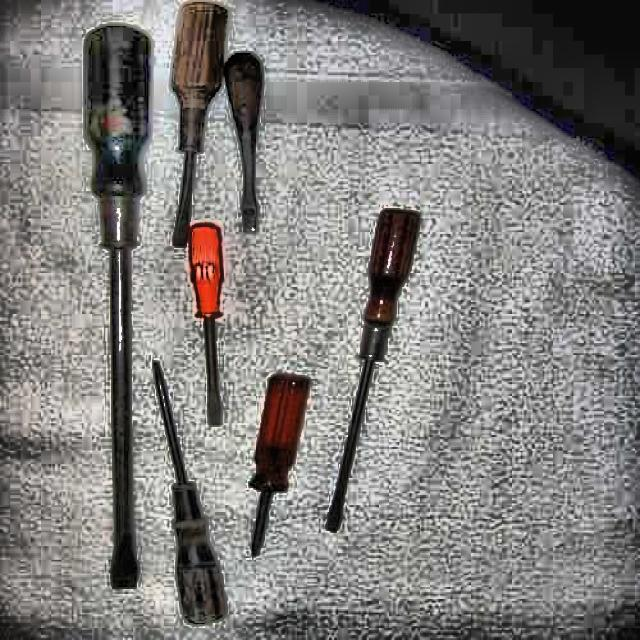screwdriver: (82, 23, 152, 591), (325, 208, 421, 532), (154, 359, 226, 626), (166, 0, 229, 247), (246, 373, 310, 558), (184, 220, 226, 428), (221, 50, 266, 233)
